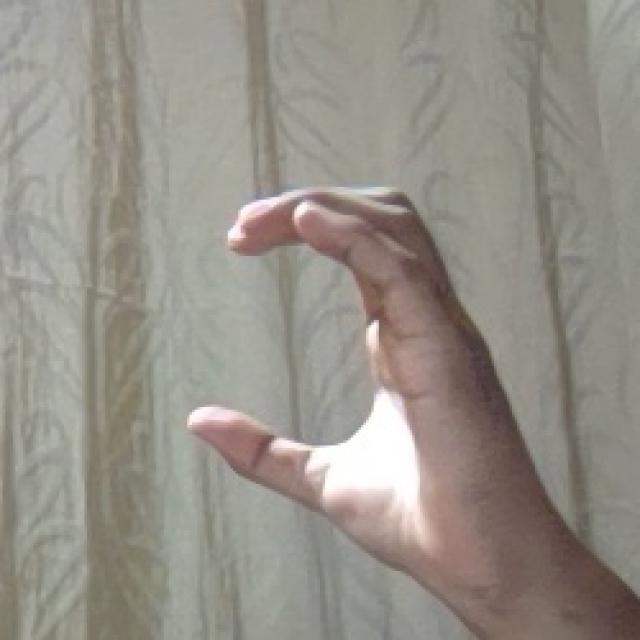Alphabet-C: (189, 187, 640, 640)
